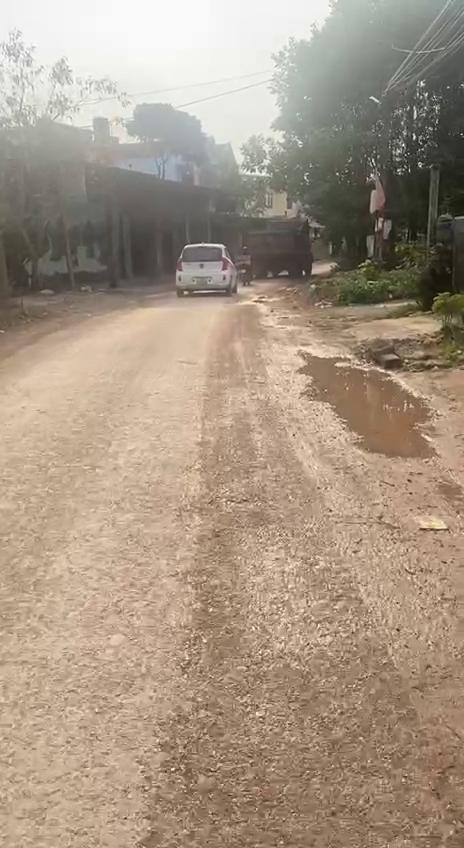pothole: (298, 350, 442, 460)
